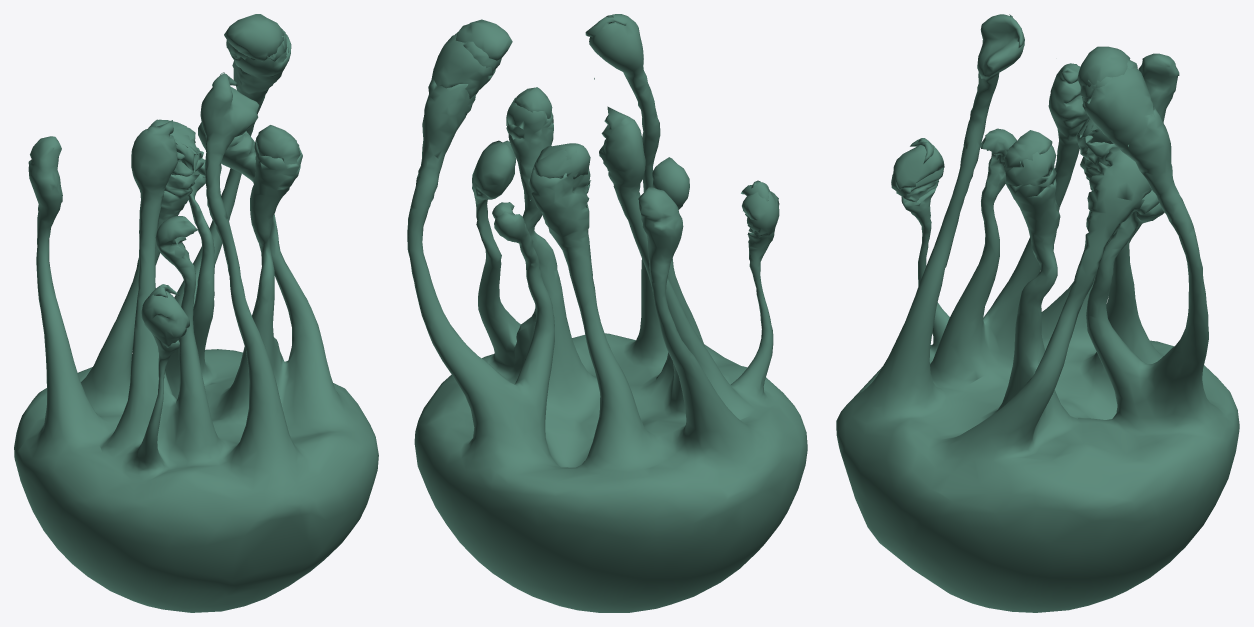
File: flump.glb
3 renders of one model, left to right at view 1: azimuth 30°, elevation 25°; view 2: azimuth 150°, elevation 25°; view 3: azimuth 270°, elevation 25°, orthographic. The views are drawn at different scales.
Parts seen in each view (by area): view 1: flump; view 2: flump; view 3: flump.
Boxes of the visible parts, left/top/right/bottom form: flump: left=14, top=14, right=378, bottom=612; flump: left=407, top=14, right=807, bottom=612; flump: left=836, top=14, right=1239, bottom=612.
Bounding box in the file's own units: 1.96 × 3.22 × 1.99.
